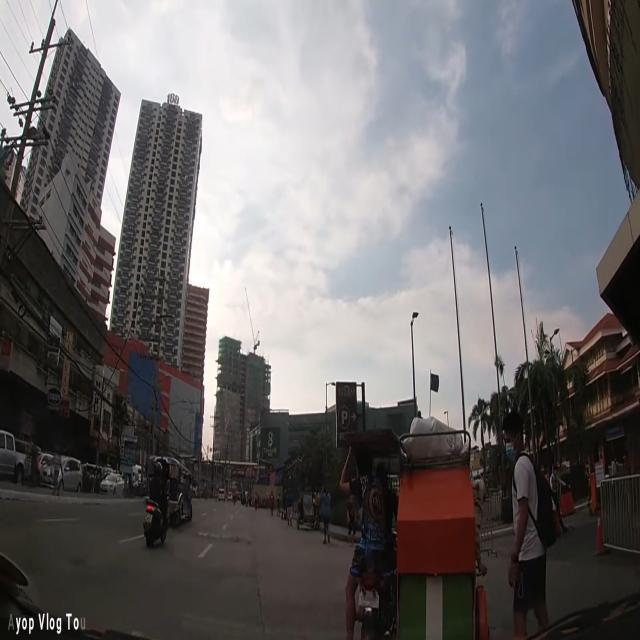car: (39, 457, 84, 492), (1, 430, 27, 484), (100, 471, 124, 496)
jeepney: (150, 455, 193, 526)
motorcycle: (143, 461, 170, 547)
tricycle: (340, 421, 475, 639), (296, 494, 320, 531)
